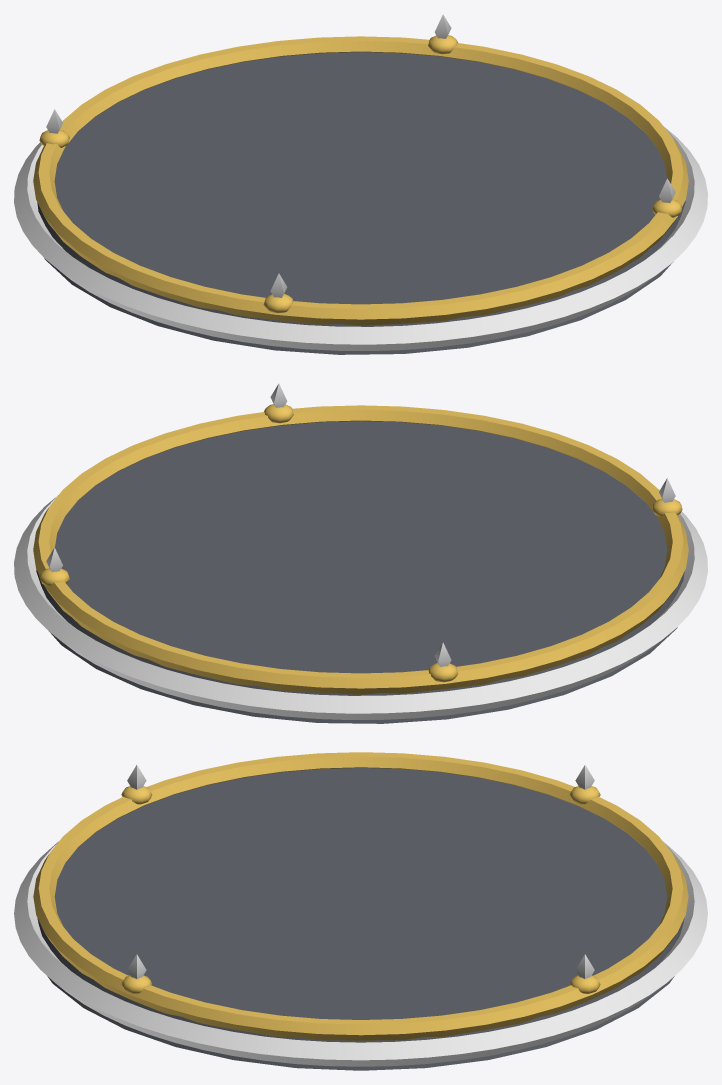
3 renders of one model, top to bottom at view 1: azimuth 30°, elevation 25°; view 2: azimuth 150°, elevation 25°; view 3: azimuth 270°, elevation 25°, orthographic.
Visible parts, largest first — view 1: base_s4; view 2: base_s4; view 3: base_s4.
Part boxes in pixels (box(x1,y1,x2,y2)): base_s4: box(14, 14, 707, 354); base_s4: box(14, 383, 707, 723); base_s4: box(14, 752, 707, 1070).
Size of the model in its own units: 1.56 by 0.175 by 1.56.
Materials: 2 (1 with a texture image).
